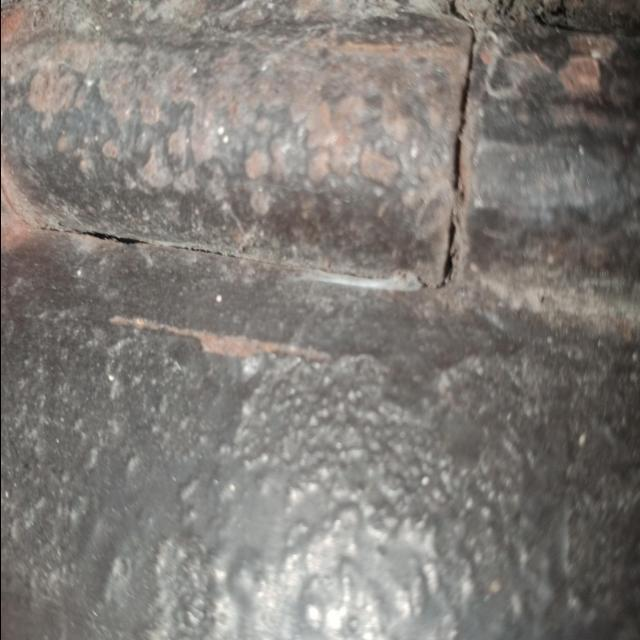Crack: (427, 2, 477, 297), (31, 225, 150, 248), (169, 245, 242, 262)
